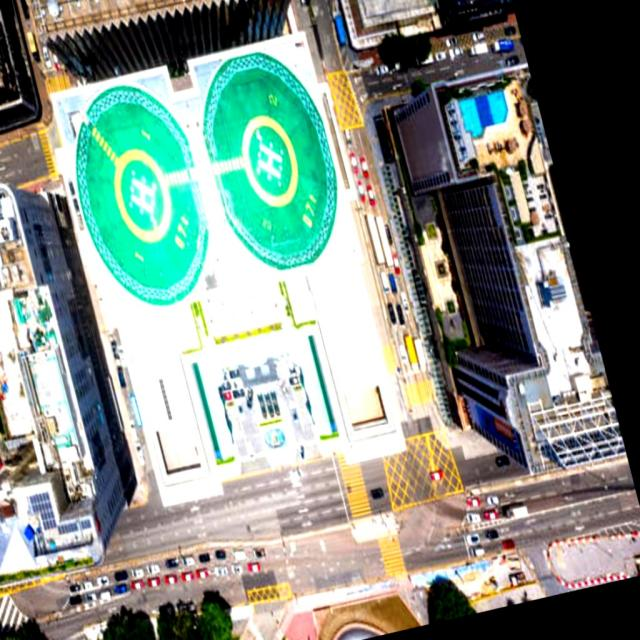helipad: (110, 145, 174, 244), (239, 110, 302, 210)
